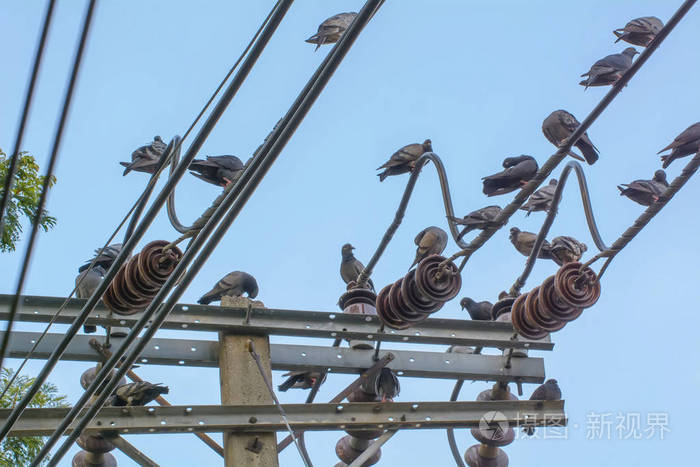insulator: (511, 261, 601, 341), (378, 253, 465, 332), (102, 237, 187, 317), (74, 364, 123, 467), (336, 380, 391, 467), (463, 389, 522, 467)
